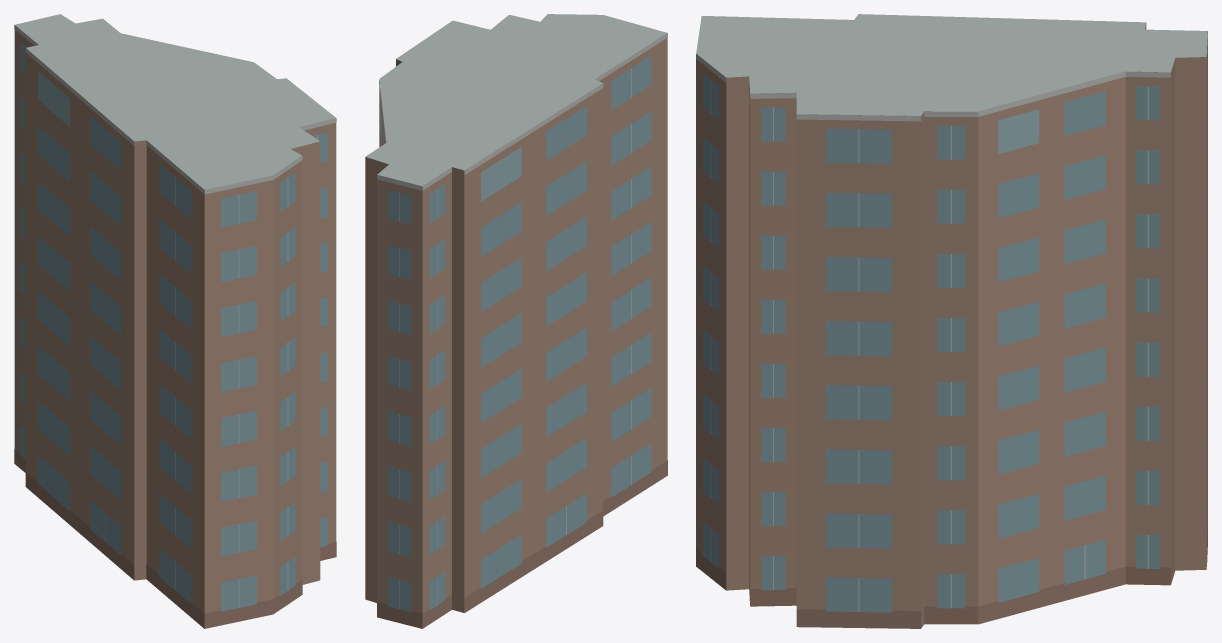
File: survey-upis-32529389.glb
3 views of the same model, side by side, from view 1: azimuth 30°, elevation 25°; view 2: azimuth 150°, elevation 25°; view 3: azimuth 270°, elevation 25° (orthographic). The views are drawn at different scales.
Visible parts, largest first — view 1: survey-upis-32529389.tmp; view 2: survey-upis-32529389.tmp; view 3: survey-upis-32529389.tmp.
Boxes of the visible parts, bbox=[...] form: survey-upis-32529389.tmp: bbox=[14, 14, 336, 628]; survey-upis-32529389.tmp: bbox=[365, 14, 667, 628]; survey-upis-32529389.tmp: bbox=[696, 14, 1207, 628].
Size of the model in its own units: 9.93 by 23.25 by 21.03.
